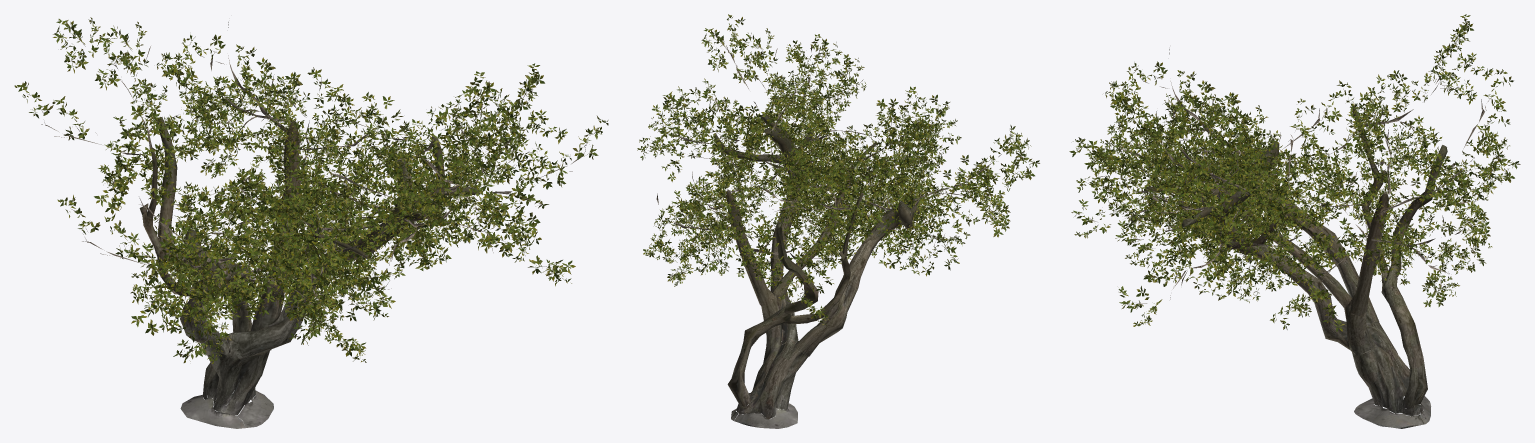
The model's file is island_tree_02.glb.
3 views of the same model, side by side, from view 1: azimuth 30°, elevation 25°; view 2: azimuth 150°, elevation 25°; view 3: azimuth 270°, elevation 25° (orthographic). The views are drawn at different scales.
Parts seen in each view (by area): view 1: island_tree_02_LOD0; view 2: island_tree_02_LOD0; view 3: island_tree_02_LOD0.
Boxes of the visible parts, x1,y1,x2,y2 form: island_tree_02_LOD0: [14, 17, 608, 428]; island_tree_02_LOD0: [637, 14, 1039, 428]; island_tree_02_LOD0: [1069, 14, 1520, 428].
Bounding box in the file's own units: 7.04 × 6.2 × 7.41.
Materials: 3 (3 with a texture image).
